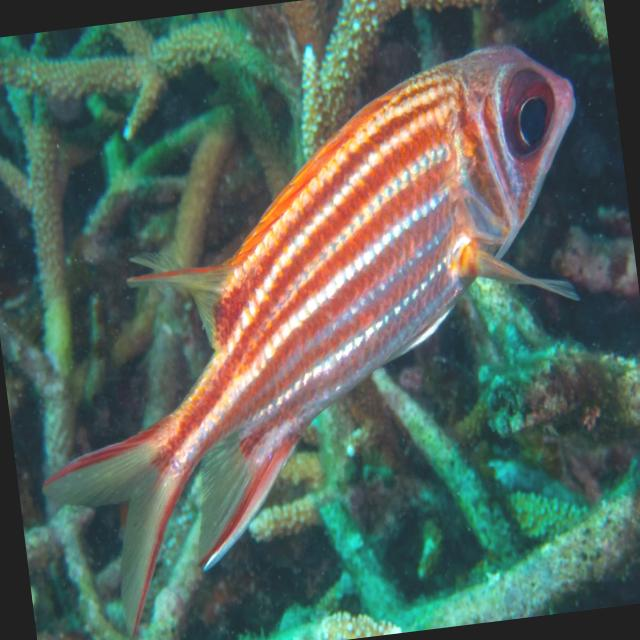Asker Baligi: (0, 31, 636, 640)
